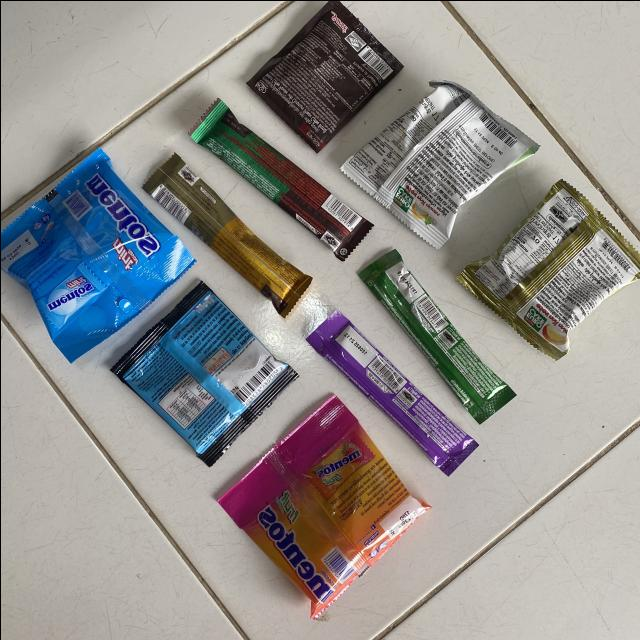plastik: (218, 395, 428, 617), (0, 148, 192, 361), (111, 281, 296, 464), (340, 79, 539, 248), (458, 180, 640, 359), (188, 99, 372, 260), (358, 248, 515, 423), (143, 153, 311, 316), (306, 309, 468, 475), (246, 0, 402, 151)
